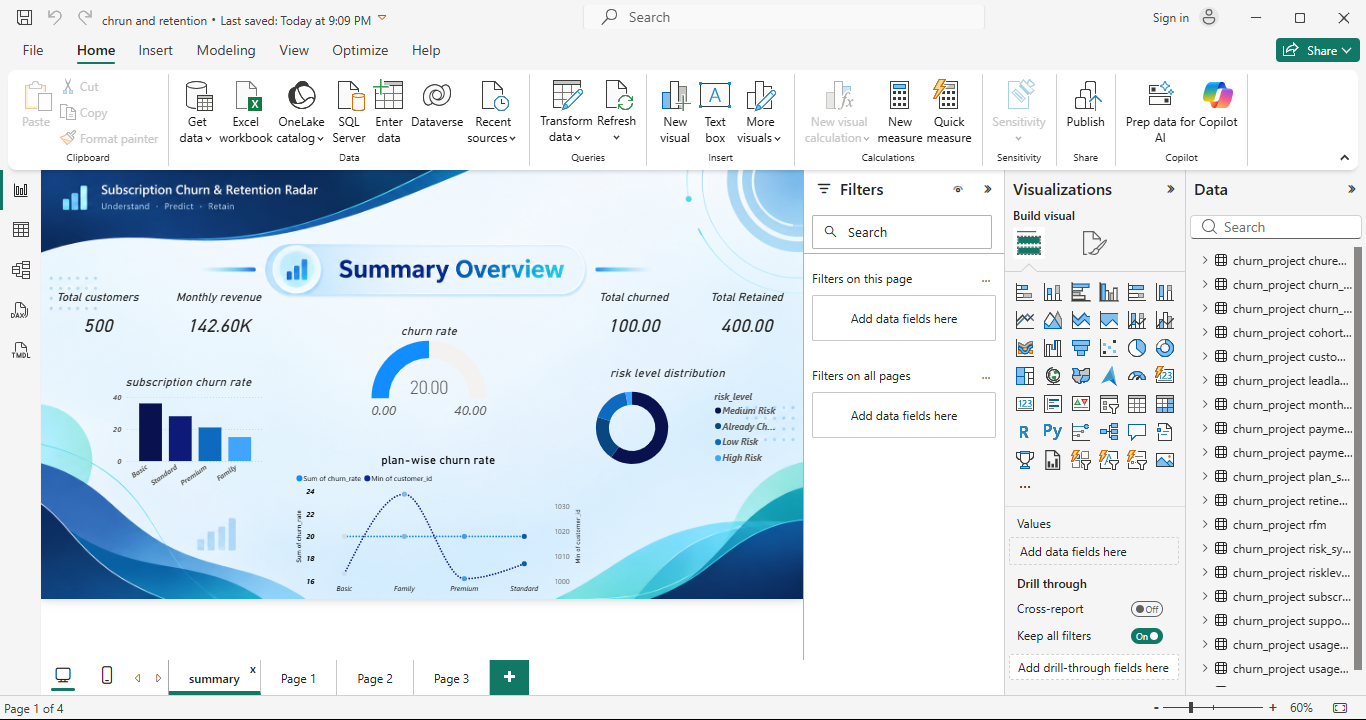

The page's visual inventory and layout, read from the dashboard file:
{"tool":"powerbi","page":{"name":"summary","canvas":[1280,720],"ordinal":0},"visuals":[{"type":"card","title":"Total customers","fields":{"Values":["CountNonNull(churn_project churn_flags.customer_id)"]},"box":[0,201.6,189.8,92.4],"z":0},{"type":"gauge","title":"churn rate","fields":{"Y":["Sum(churn_project churn_symmary.churn_rate)"]},"box":[525.8,258.7,252,169.7],"z":1000},{"type":"card","title":"Total churned","fields":{"Values":["Sum(churn_project churn_symmary.churned_customers)"]},"box":[900.4,201.6,189.8,92.4],"z":2000},{"type":"card","title":"Total Retained ","fields":{"Values":["Sum(churn_project churn_symmary.retained_customers)"]},"box":[1090.2,201.6,189.8,92.4],"z":3000},{"type":"card","title":"Monthly revenue","fields":{"Values":["Sum(churn_project retined_symmary.monthly_revenue)"]},"box":[203.3,201.6,189.8,92.4],"z":4000},{"type":"columnChart","title":"subscription churn rate","fields":{"Category":["churn_project customers.plan_type"],"Y":["CountNonNull(churn_project churn_flags.churn_reason)"]},"box":[115.9,344.4,263.7,206.6],"z":5000},{"type":"donutChart","title":"risk level distribution","fields":{"Category":["churn_project risk_symmary.risk_level"],"Y":["Avg(churn_project risk_symmary.customer_count)"]},"box":[850,329.2,404.8,184.8],"z":6000},{"type":"lineChart","title":"plan-wise churn rate","fields":{"Category":["churn_project customers.plan_type"],"Y":["Sum(churn_project churn_symmary.churn_rate)"],"Y2":["Min(churn_project churn_flags.customer_id)"]},"box":[423.3,475.4,488.8,245.2],"z":7001}]}

Visuals, with their boxes on the page's 1280x720 design canvas (x1, y1, x2, y2). These are canvas units, not pixel positions in the 1366x720 screenshot, which may show the page scaled, cropped or inside an application window:
"Total customers" card: bbox=[0, 202, 190, 294]
"churn rate" gauge: bbox=[526, 259, 778, 428]
"Total churned" card: bbox=[900, 202, 1090, 294]
"Total Retained " card: bbox=[1090, 202, 1280, 294]
"Monthly revenue" card: bbox=[203, 202, 393, 294]
"subscription churn rate" columnChart: bbox=[116, 344, 380, 551]
"risk level distribution" donutChart: bbox=[850, 329, 1255, 514]
"plan-wise churn rate" lineChart: bbox=[423, 475, 912, 721]
